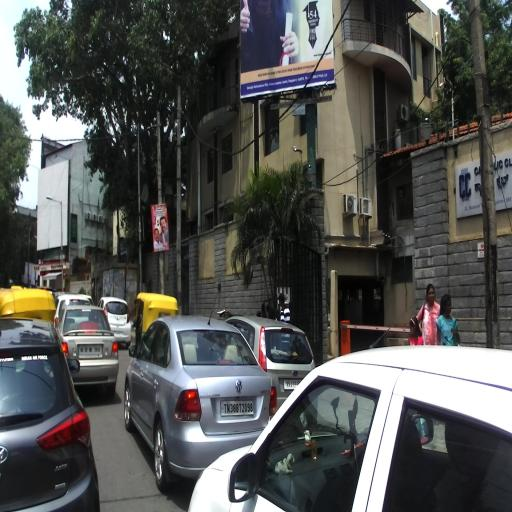street_light_0: (46, 194, 63, 208)
